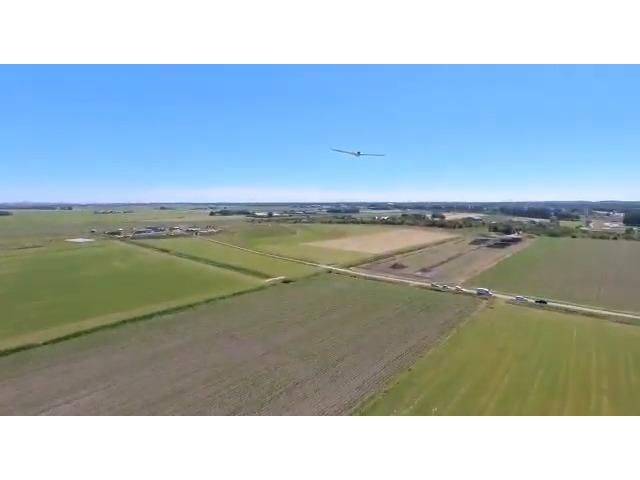Anti-Drone: (314, 137, 398, 171)
